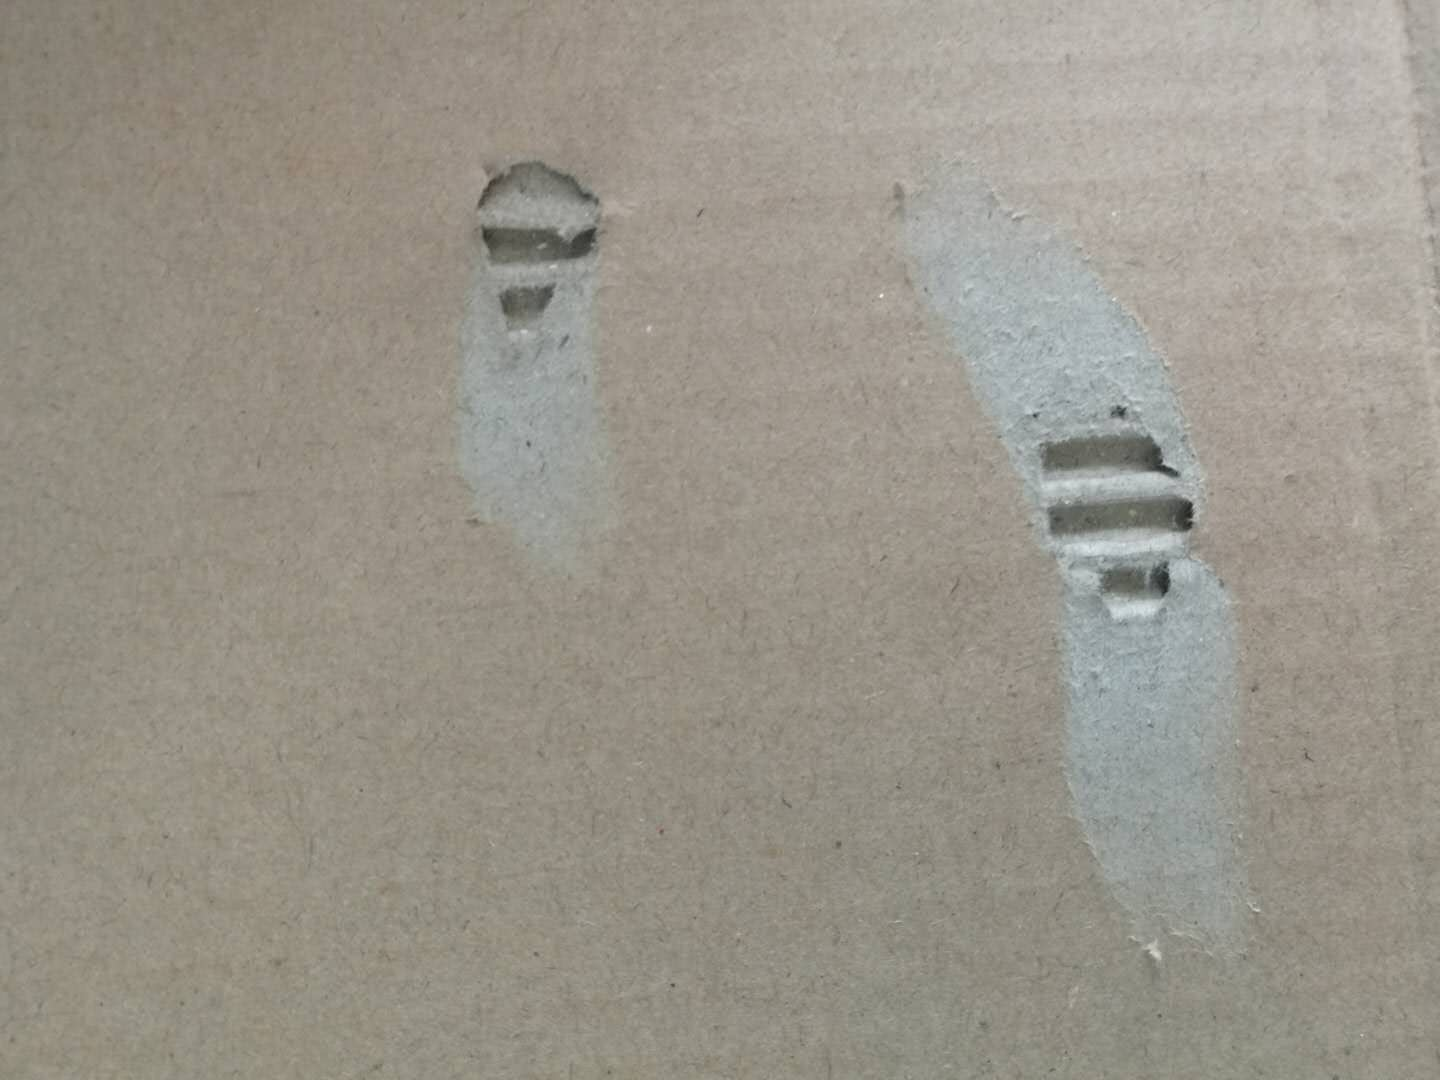defect: (848, 124, 1303, 1018), (437, 130, 695, 598)
